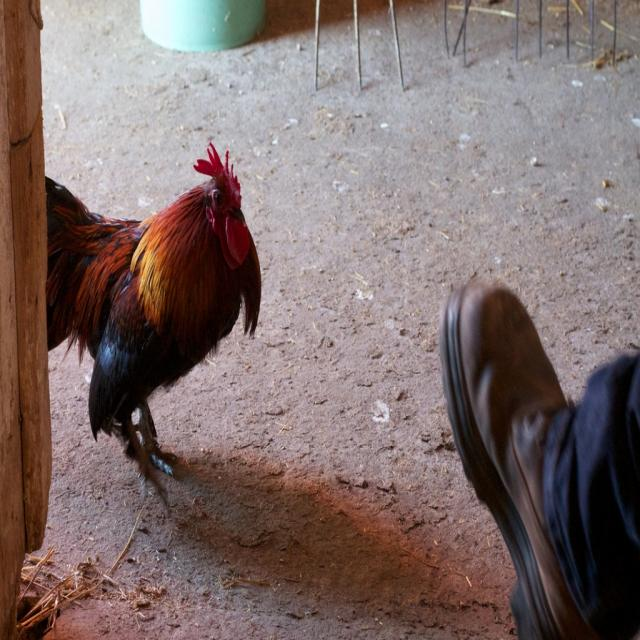Chicken: (44, 136, 265, 483)
